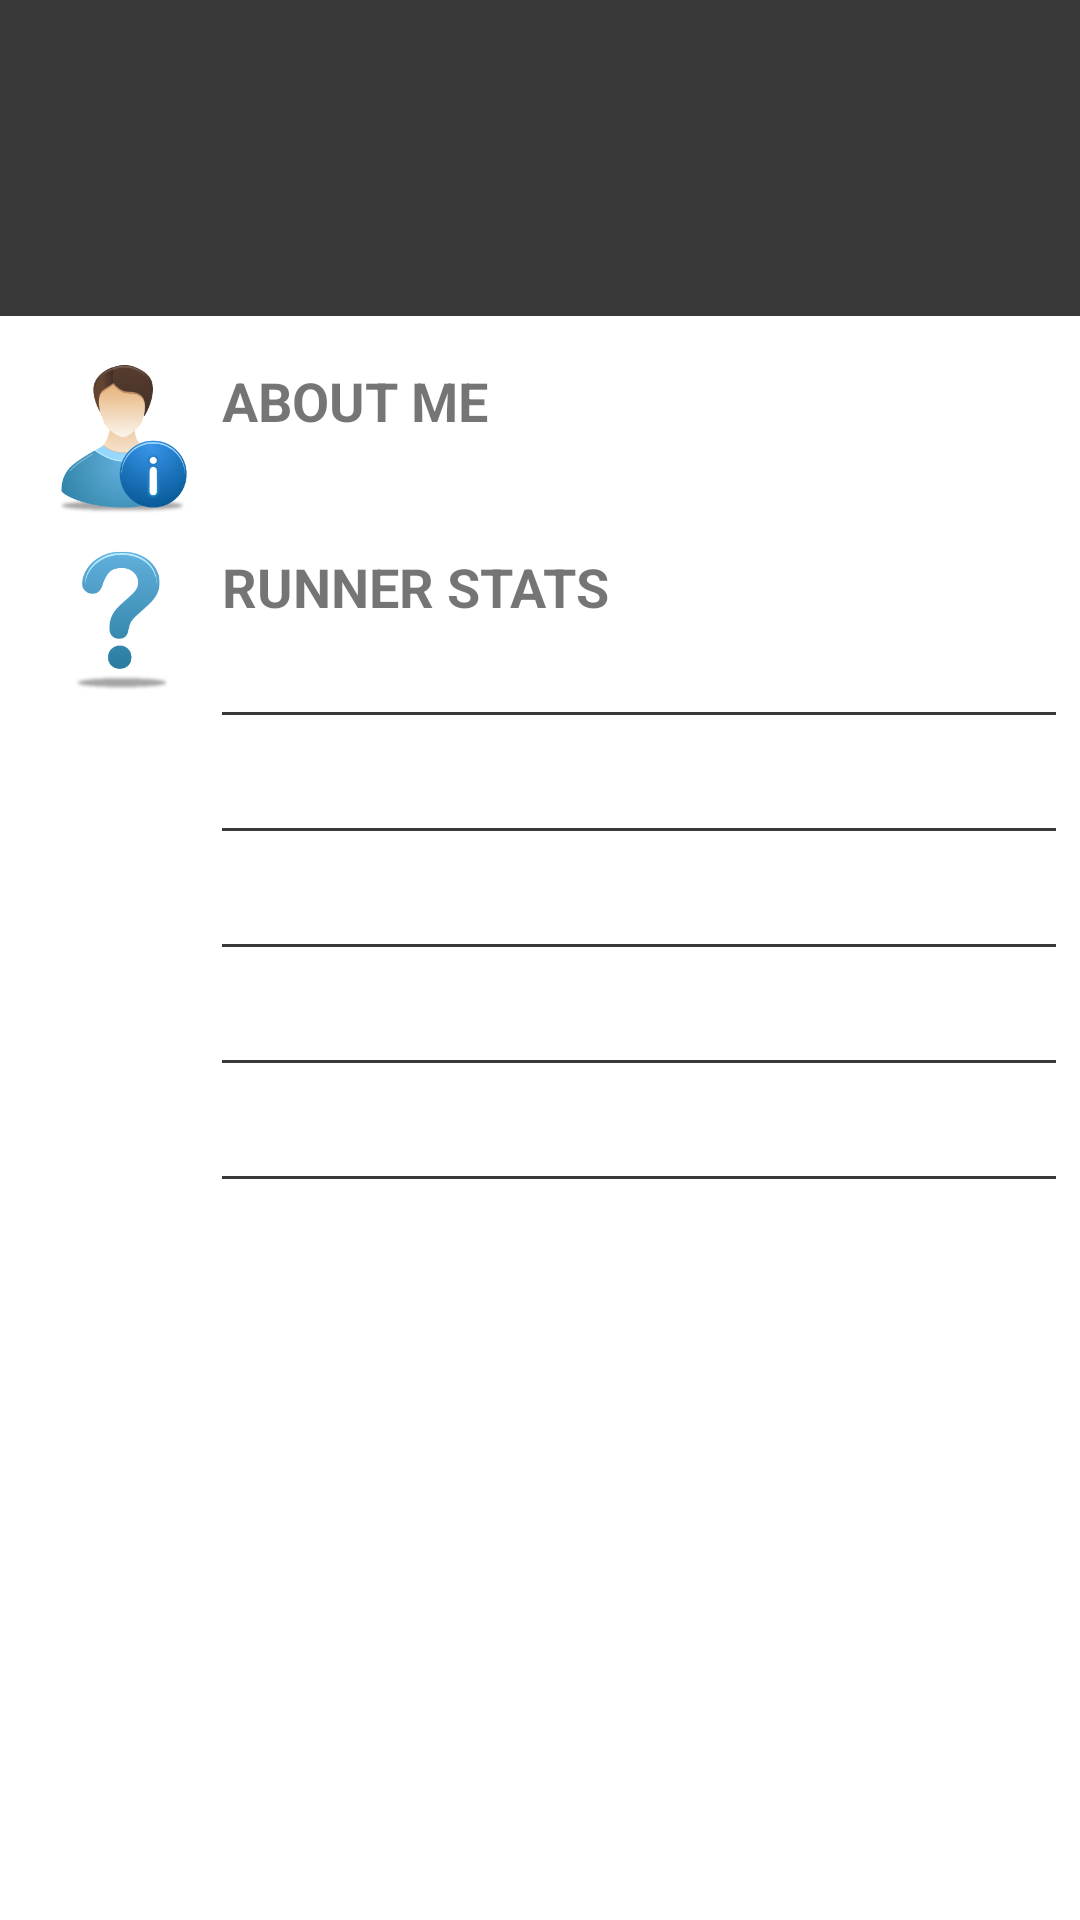

Where to tap for icons on this 1080 x 1920 app screen, as point (x, y):
profile info icon: point (124, 438)
